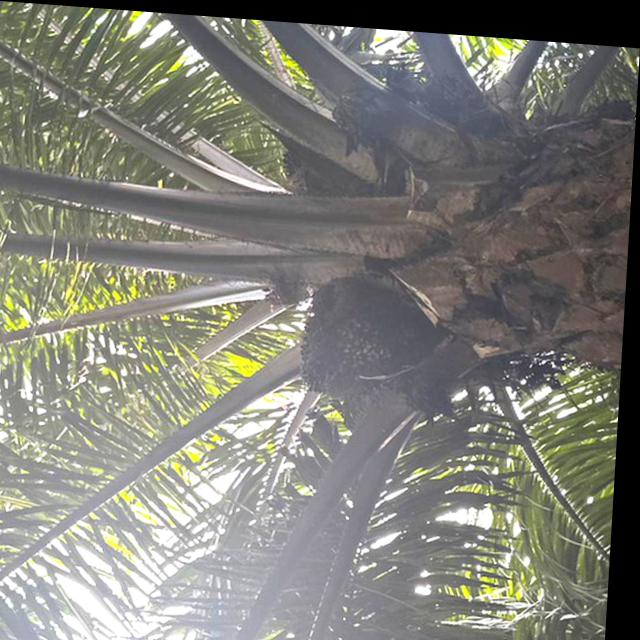unripe: (292, 258, 442, 407)
